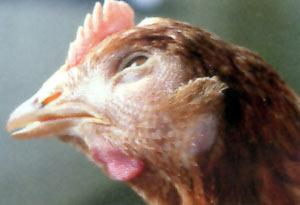AbNormal: (61, 1, 134, 66)
